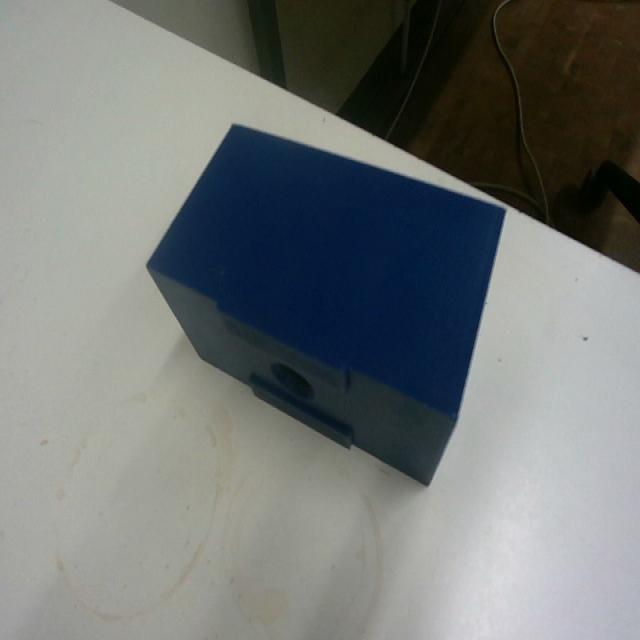Blue Cuboid: (144, 119, 507, 486)
